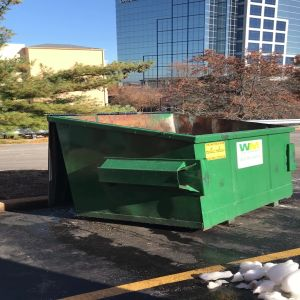Dumpster: (42, 112, 297, 233)
